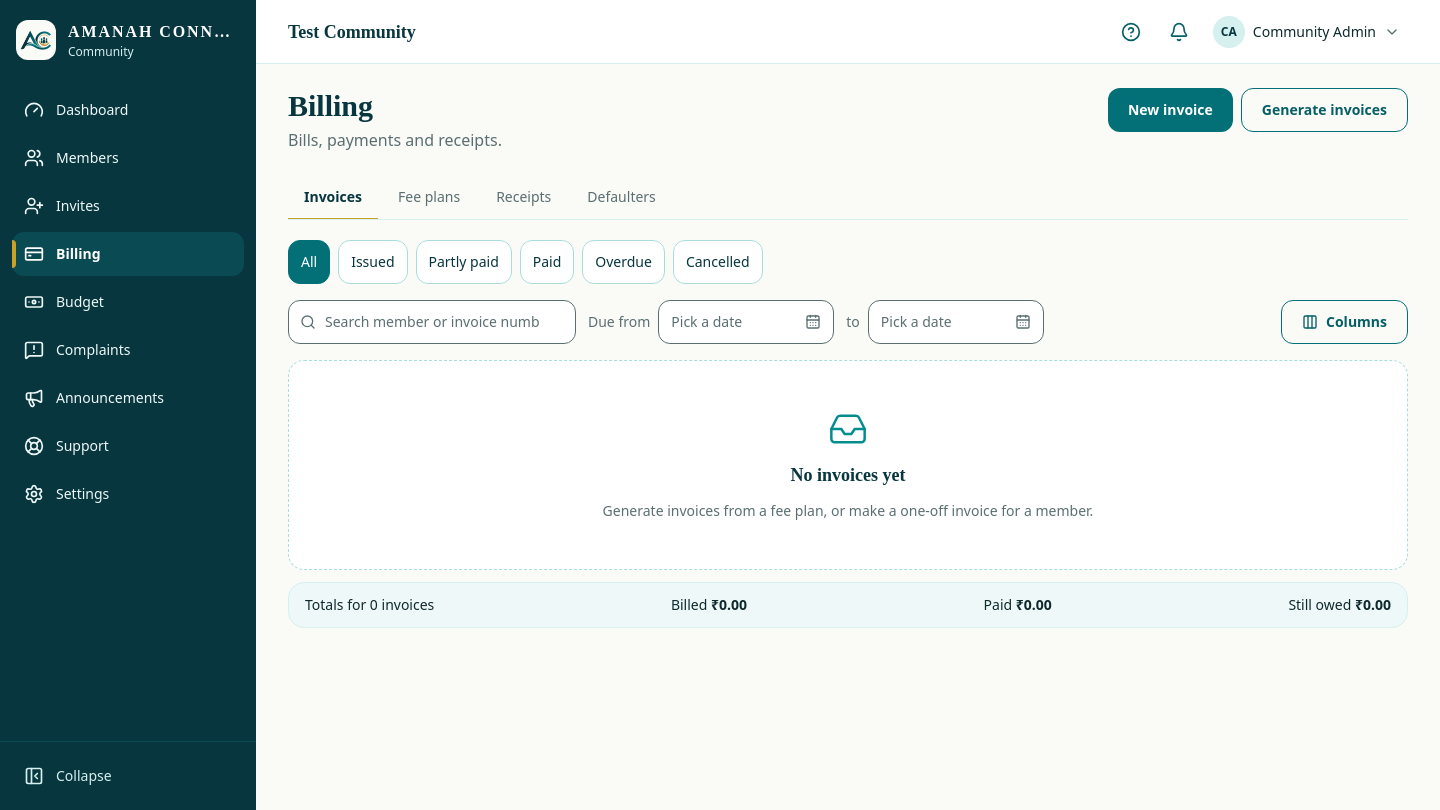
generate invoices wizard › previews the count and total, then reports what was created and what already existed
The width and height of the screenshot is (1440, 810).
Step 1. Click the button "Generate invoices" → (1324, 110), box [1241,88,1408,132]
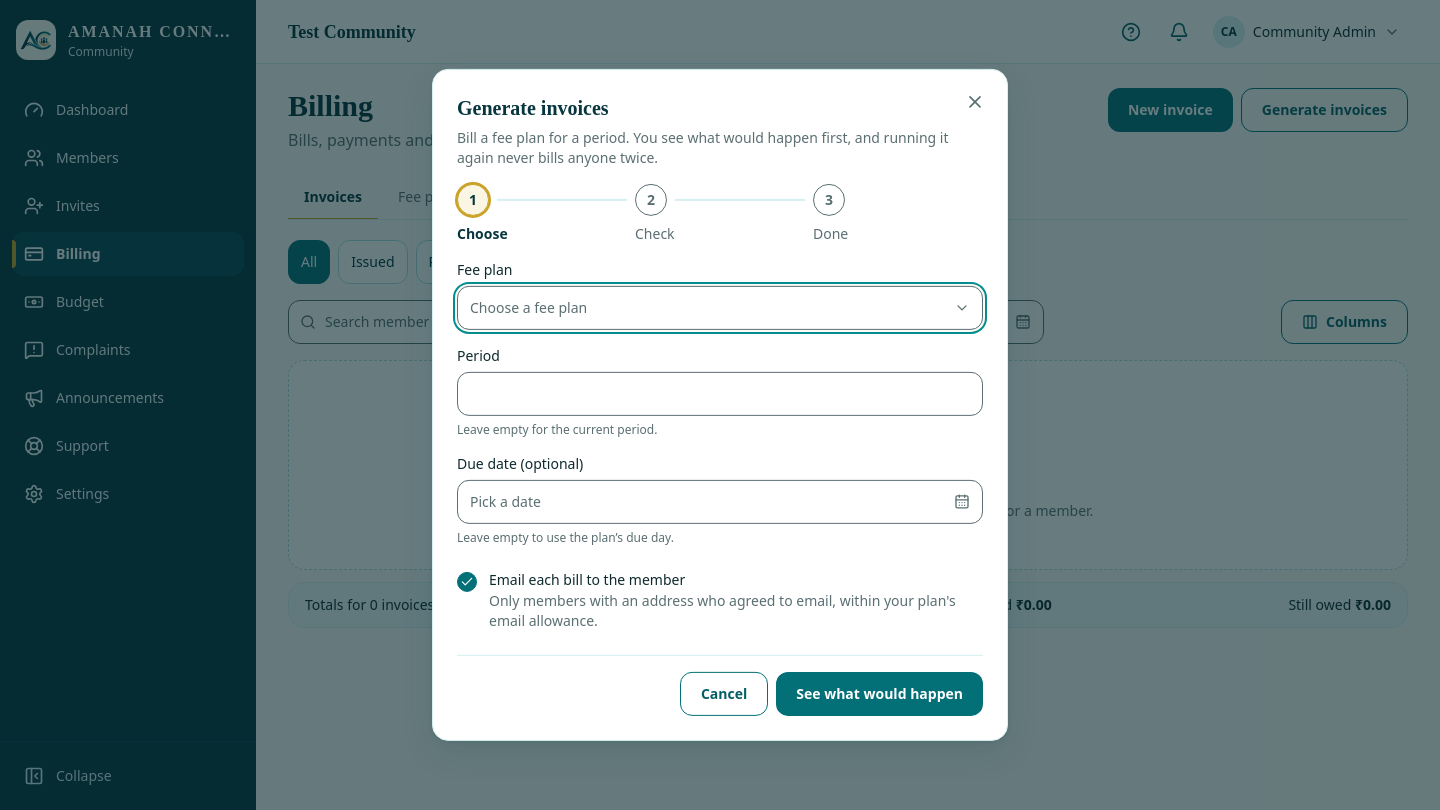
Step 2. Click the dropdown labelled "fee plan" → (529, 307), box [457,286,983,330]
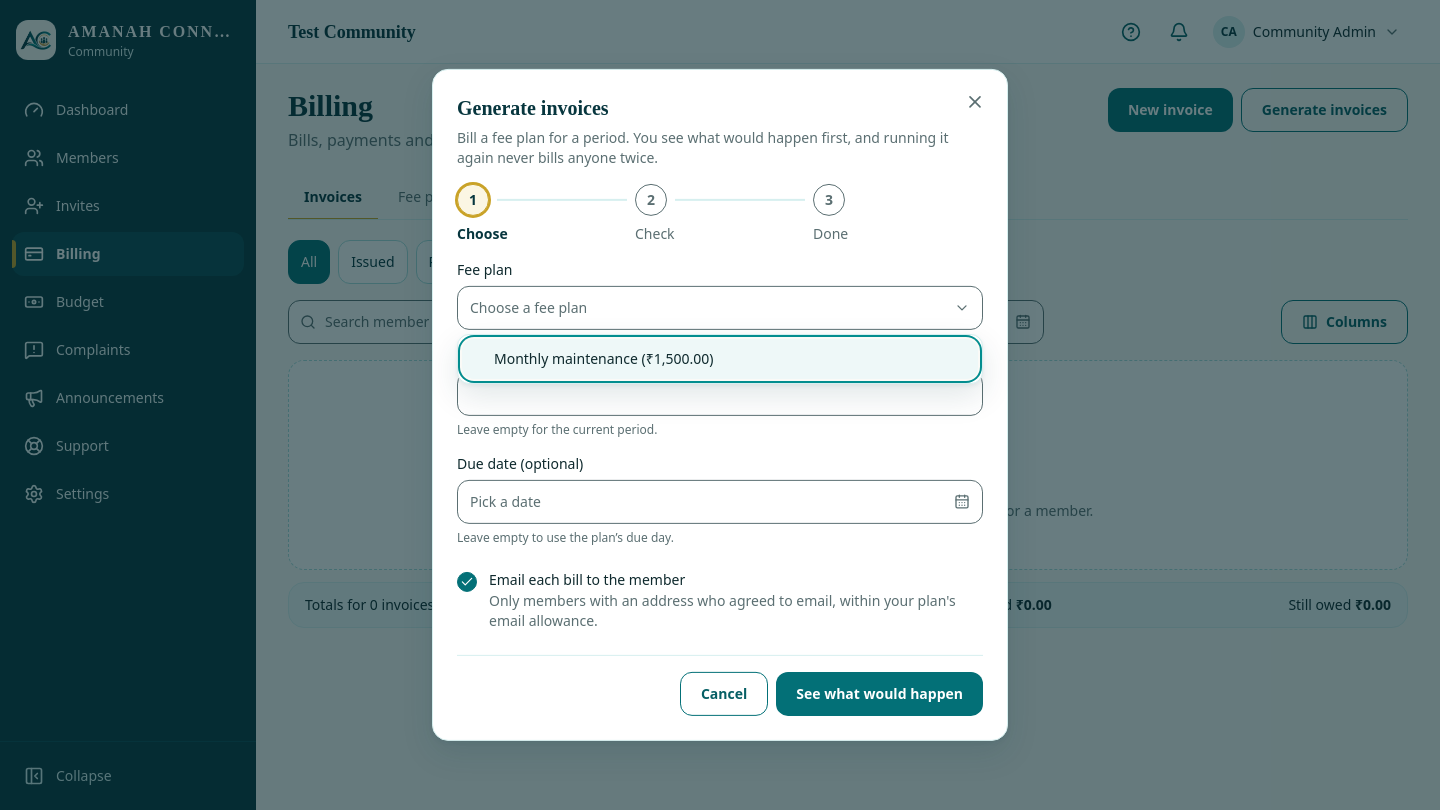
Step 3. Click the option "Monthly maintenance (₹1,500.00)" → (604, 358), box [462,339,978,379]
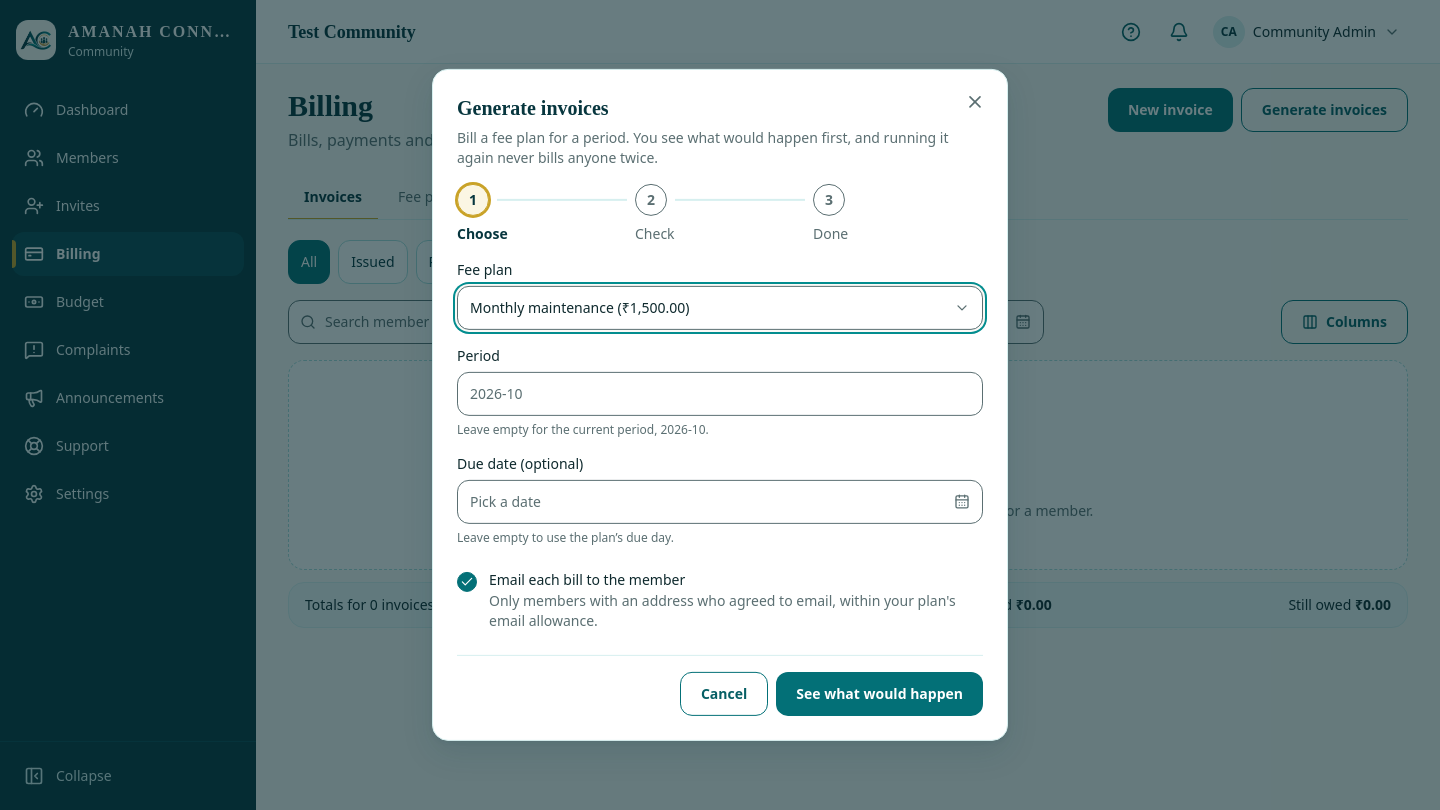
Step 4. Click the button "See what would happen" → (880, 694), box [776,672,983,716]
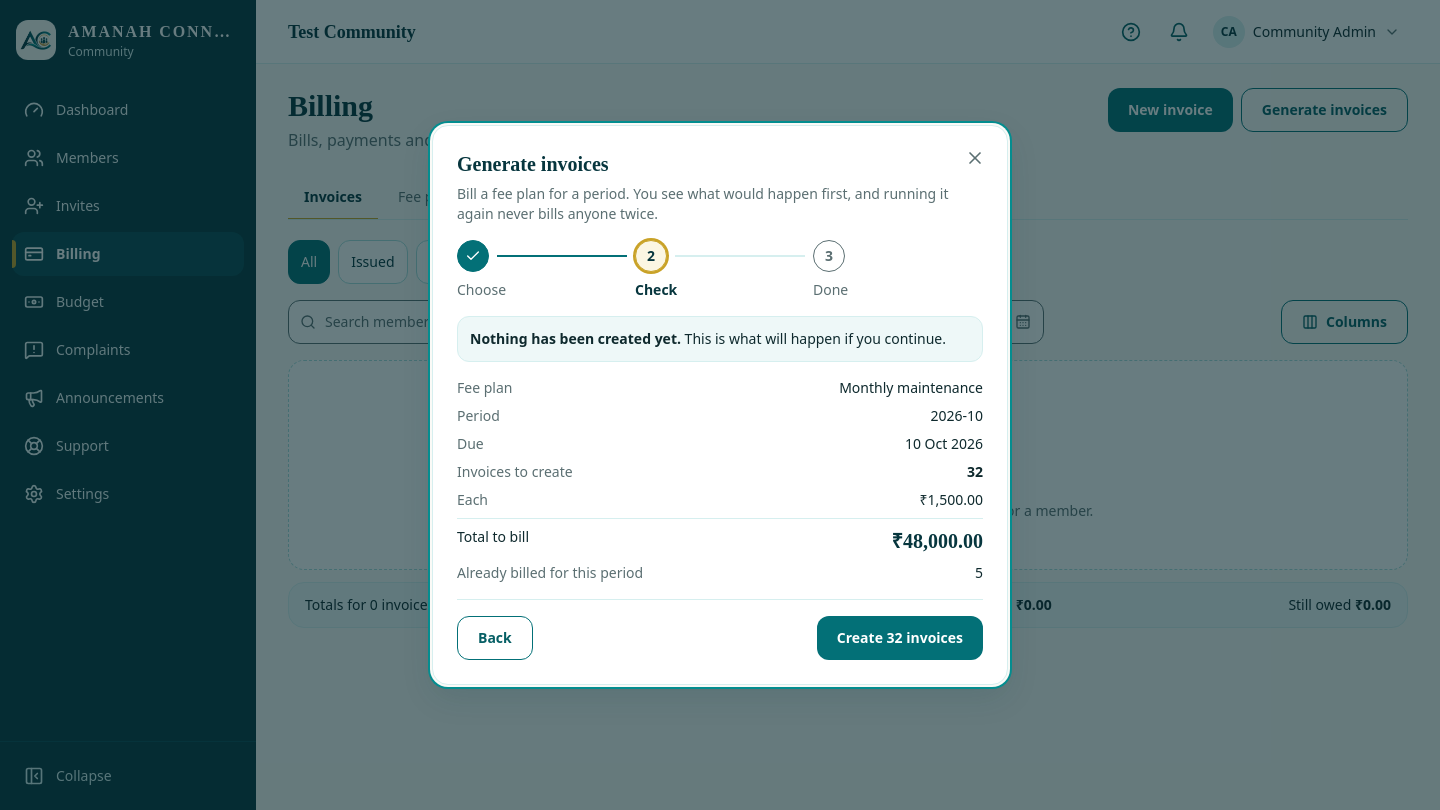
Expected: the text "Nothing has been created yet." is shown, [470,329,681,348]
Expected: the text "₹48,000.00" is shown, [892,527,983,555]
Expected: the text "32" is shown, [967,462,983,482]
Step 5. Click the button "Create 32 invoices" → (900, 638), box [817,616,983,660]
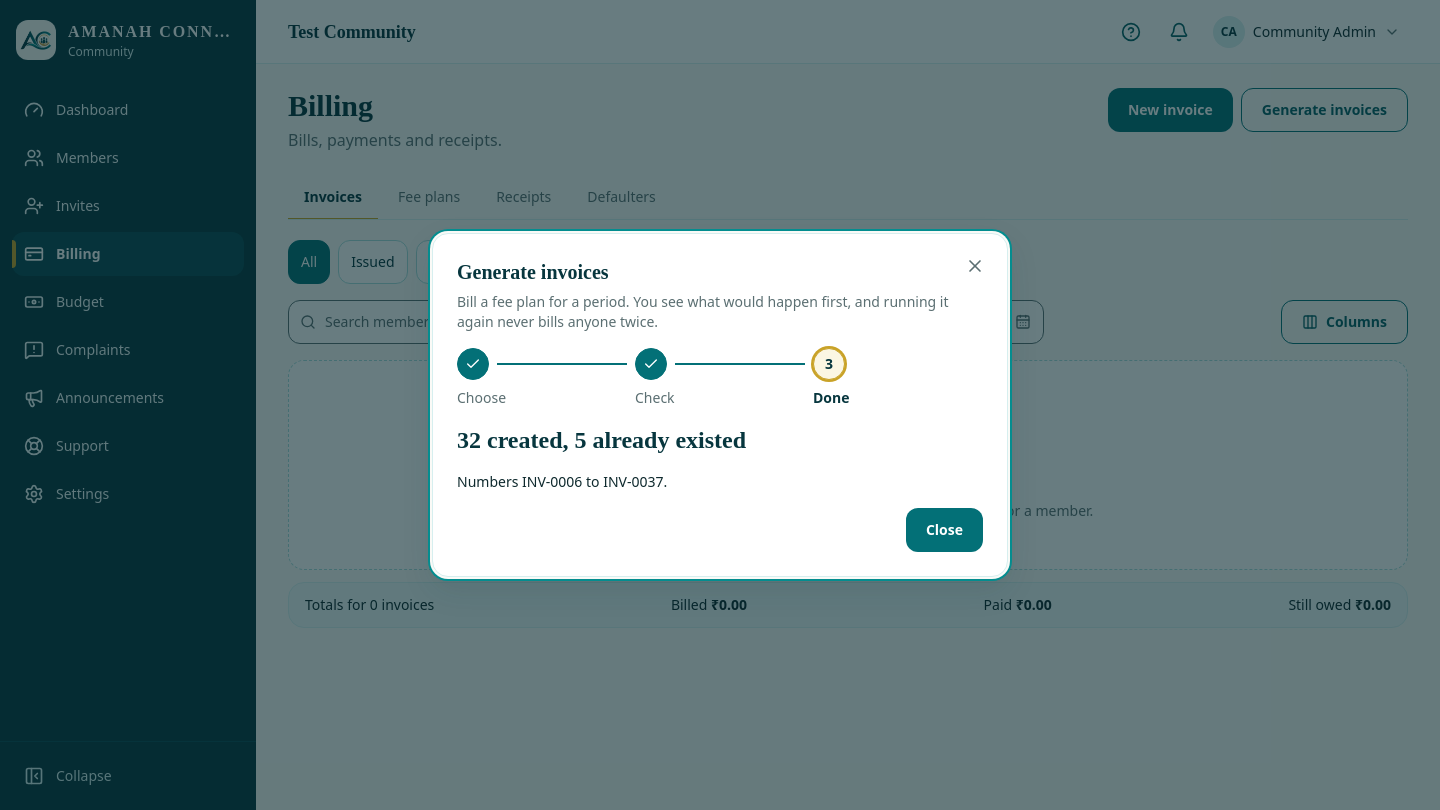
Expected: the text "32 created, 5 already existed" is shown, [457,427,746,453]
